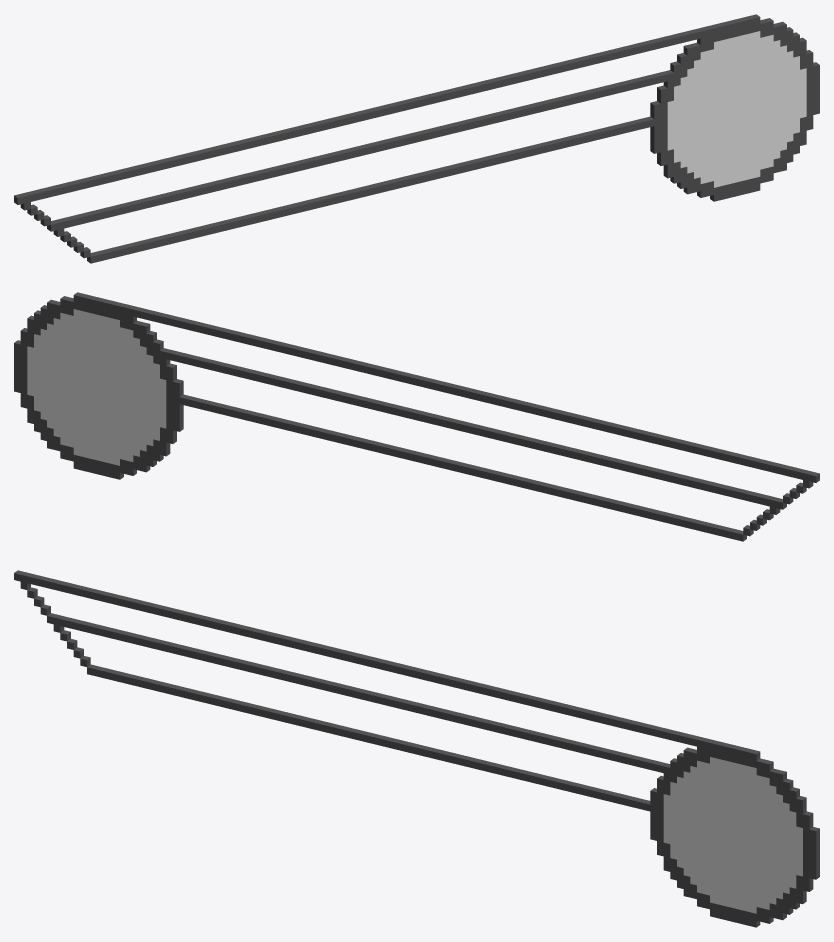
The model's file is HeroBar.obj.
3 views of the same model, one above another, from view 1: azimuth 30°, elevation 25°; view 2: azimuth 150°, elevation 25°; view 3: azimuth 330°, elevation 25° (orthographic).
Size of the model in its own units: 121 by 25 by 1.
Materials: 1 (1 with a texture image).
